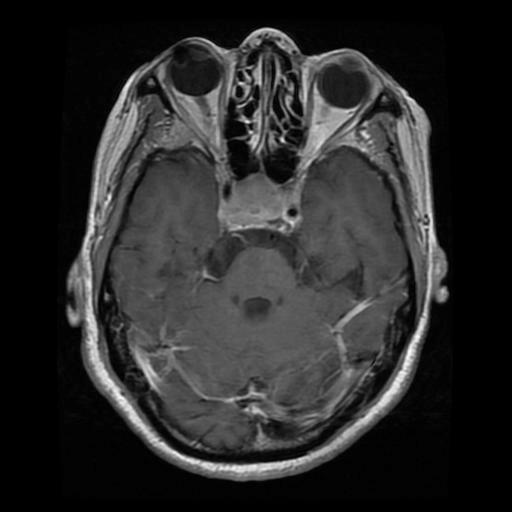Tumour-Pituitary: (216, 178, 307, 236)
